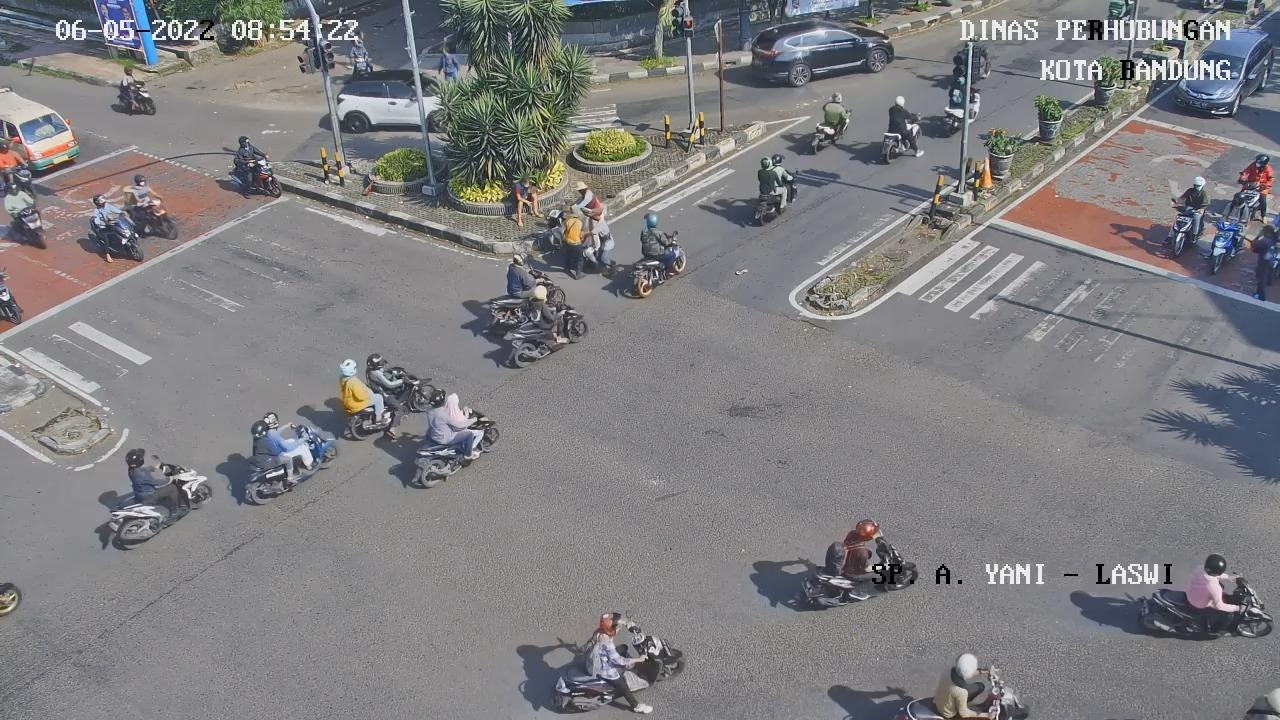accident: (512, 175, 544, 227)
